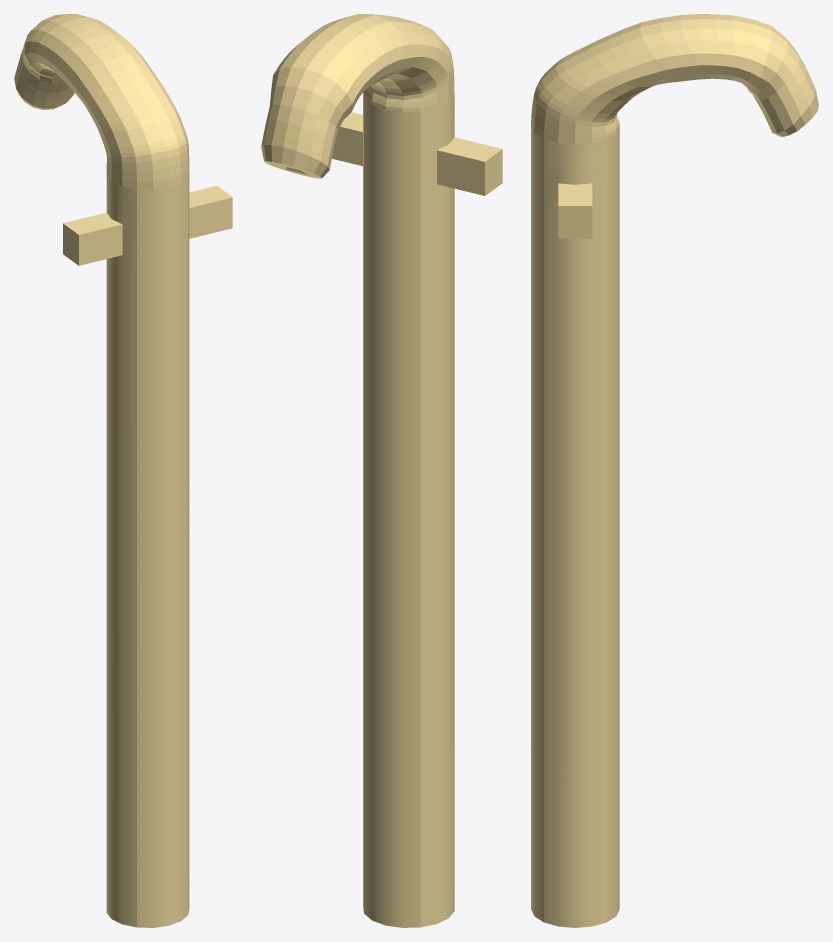
File: wanne_hahn.fbx
3 renders of one model, left to right at view 1: azimuth 30°, elevation 25°; view 2: azimuth 150°, elevation 25°; view 3: azimuth 270°, elevation 25°, orthographic. The views are drawn at different scales.
Visible parts, largest first — view 1: Hahn:Hahn; view 2: Hahn:Hahn; view 3: Hahn:Hahn.
Part boxes in pixels (bbox=[...]): Hahn:Hahn: bbox=[14, 14, 232, 927]; Hahn:Hahn: bbox=[261, 14, 502, 927]; Hahn:Hahn: bbox=[531, 14, 818, 927].
Bounding box in the file's own units: 67.31 × 349 × 102.
